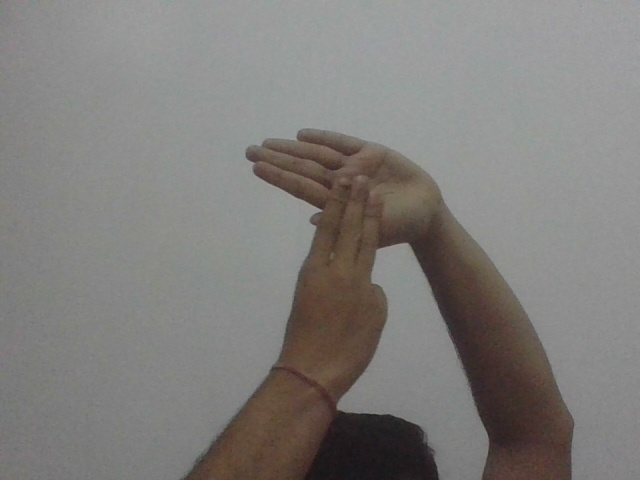M: (242, 123, 436, 312)
